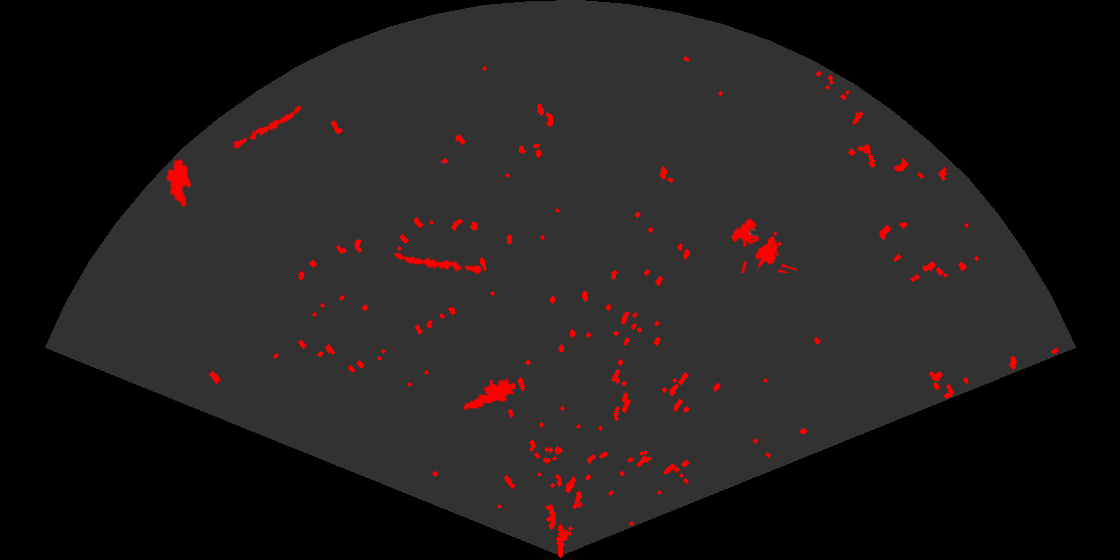AUV: (164, 157, 193, 209)
cage: (729, 217, 797, 273)
chain: (229, 104, 303, 151), (392, 251, 483, 276)
frogman: (461, 378, 515, 411)
